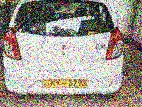car: (3, 0, 124, 99)
